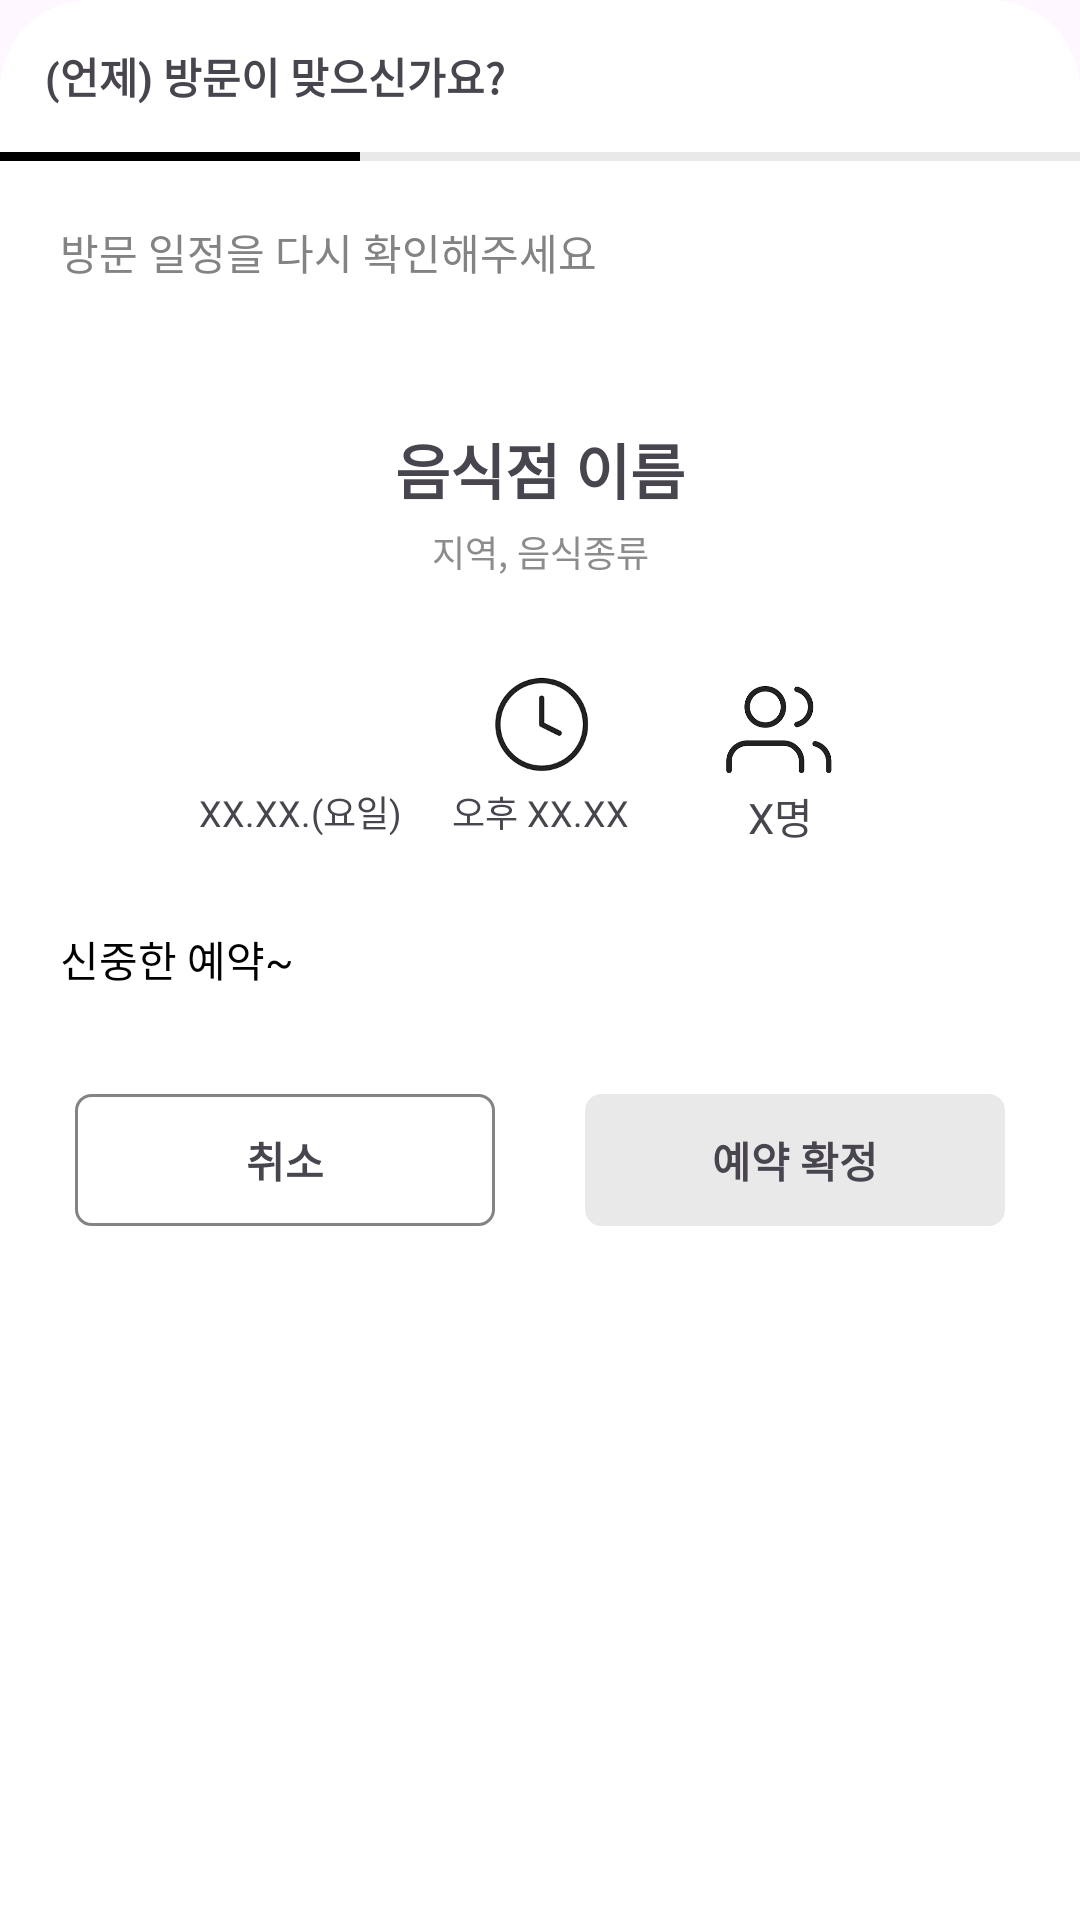

Named icons in this screenshot (1080w x 1920h) and their centers, [x,y]:
clock: [541,724]
